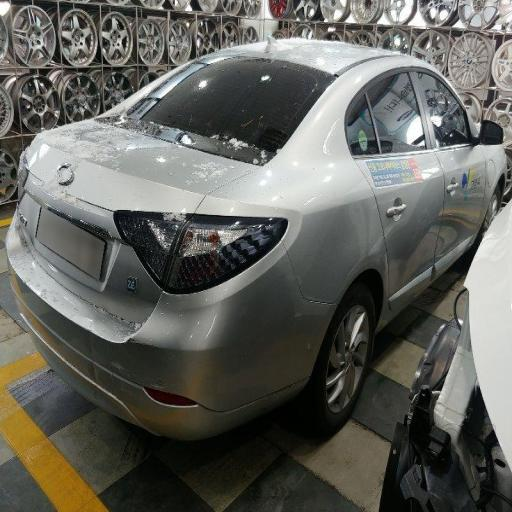dent: (24, 228, 244, 441)
scratch: (40, 80, 256, 217)
